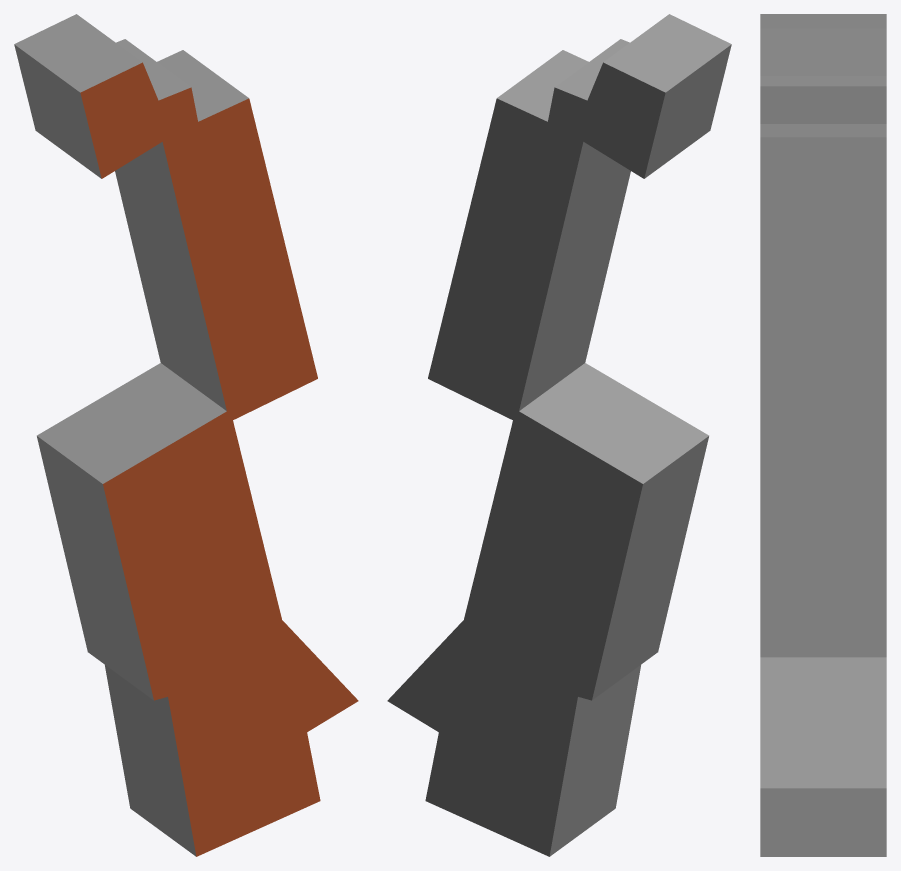
Rendered from construction_3576_assumed_A_Casa_h6m.obj.
3 renders of one model, left to right at view 1: azimuth 30°, elevation 25°; view 2: azimuth 150°, elevation 25°; view 3: azimuth 270°, elevation 25°, orthographic. The views are drawn at different scales.
Visible parts, largest first — view 1: construction_3576_assumed_A_Casa; view 2: construction_3576_assumed_A_Casa; view 3: construction_3576_assumed_A_Casa.
Part boxes in pixels (box(x1,y1,x2,y2)): construction_3576_assumed_A_Casa: box(14, 14, 358, 856); construction_3576_assumed_A_Casa: box(387, 14, 731, 856); construction_3576_assumed_A_Casa: box(760, 14, 886, 856).
Bounding box in the file's own units: 14.57 × 40.37 × 6.
